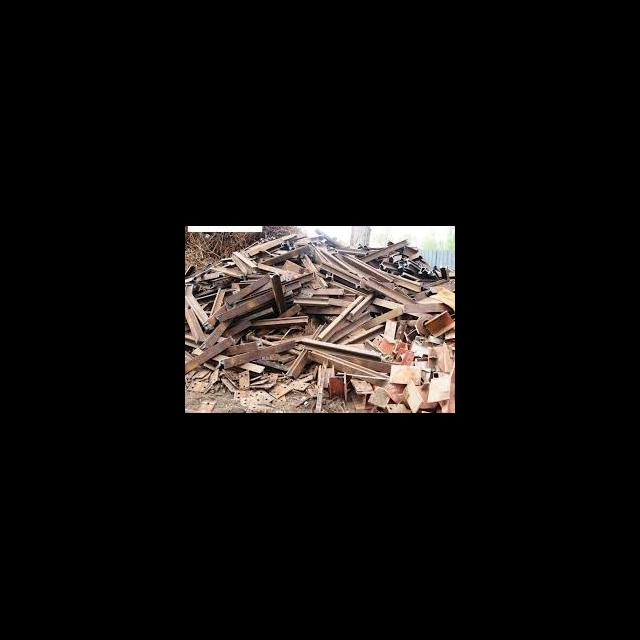metal: (219, 334, 300, 376), (295, 332, 384, 368), (185, 332, 233, 378), (350, 234, 410, 266), (339, 250, 394, 284), (266, 272, 296, 326), (321, 368, 353, 408), (344, 284, 376, 324), (242, 312, 312, 330), (419, 306, 454, 338), (228, 246, 258, 278), (296, 282, 348, 300), (185, 306, 208, 344), (290, 292, 332, 306), (234, 368, 252, 393)
